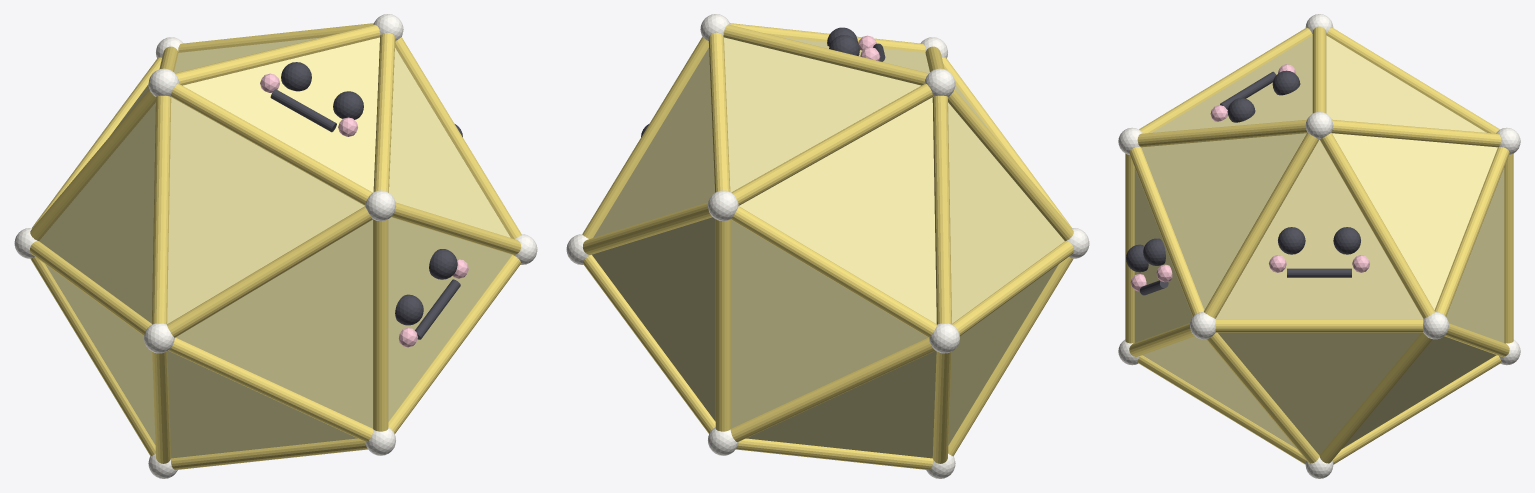
Rendered from icosahedron_cute_faces.glb.
3 views of the same model, side by side, from view 1: azimuth 30°, elevation 25°; view 2: azimuth 150°, elevation 25°; view 3: azimuth 270°, elevation 25° (orthographic). The views are drawn at different scales.
Parts seen in each view (by area): view 1: IcosahedronBody, IcosahedronEdges, IcosahedronVertices, CuteFaceFeatures, CuteCheeks; view 2: IcosahedronBody, IcosahedronEdges, IcosahedronVertices, CuteFaceFeatures; view 3: IcosahedronBody, IcosahedronEdges, CuteFaceFeatures, IcosahedronVertices, CuteCheeks.
Part boxes in pixels (<box>): IcosahedronBody: <box>39,37,511,458</box>; IcosahedronEdges: <box>30,23,521,469</box>; IcosahedronVertices: <box>14,14,537,478</box>; CuteFaceFeatures: <box>270,62,462,339</box>; CuteCheeks: <box>260,73,468,347</box>; IcosahedronBody: <box>592,37,1064,458</box>; IcosahedronEdges: <box>582,23,1073,469</box>; IcosahedronVertices: <box>566,14,1089,478</box>; CuteFaceFeatures: <box>641,27,885,136</box>; IcosahedronBody: <box>1134,35,1504,455</box>; IcosahedronEdges: <box>1125,26,1513,464</box>; CuteFaceFeatures: <box>1126,70,1360,295</box>; IcosahedronVertices: <box>1118,14,1520,478</box>; CuteCheeks: <box>1130,64,1369,291</box>.
Bounding box in the file's own units: 1.83 × 1.83 × 1.83.
